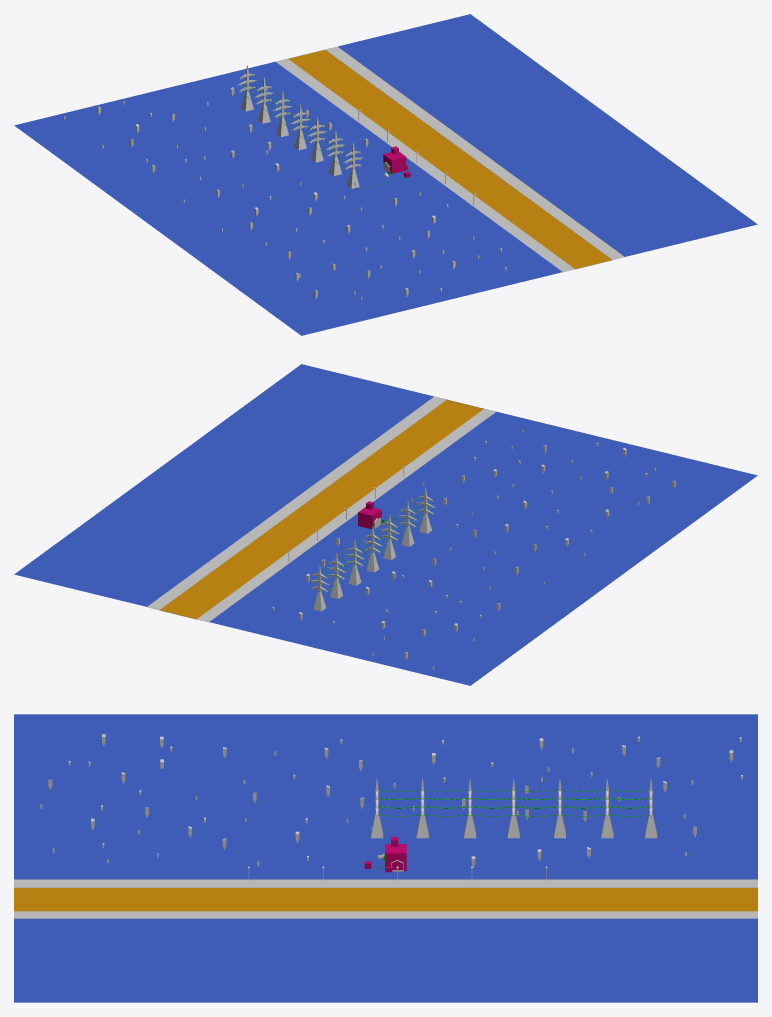
The model's file is sg_connect_scroll_explainer.obj.
3 views of the same model, one above another, from view 1: azimuth 30°, elevation 25°; view 2: azimuth 150°, elevation 25°; view 3: azimuth 270°, elevation 25° (orthographic). The views are drawn at different scales.
Parts seen in each view (by area): view 1: Plane.013; view 2: Plane.013; view 3: Plane.013, Target_1.
Boxes of the visible parts, left/top/right/bottom form: Plane.013: left=14, top=14, right=757, bottom=335; Plane.013: left=14, top=364, right=757, bottom=685; Plane.013: left=14, top=714, right=757, bottom=1002; Target_1: left=385, top=844, right=406, bottom=870.
Size of the model in its own units: 110 by 10.37 by 120.
